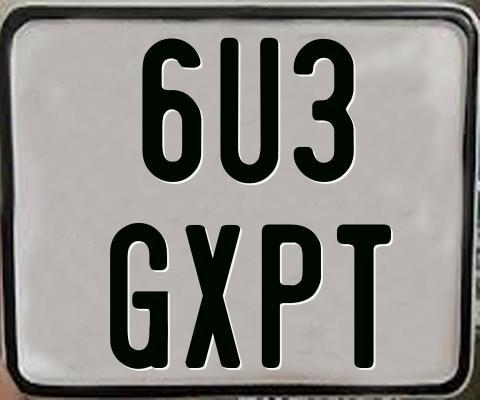3: (291, 38, 352, 184)
6: (140, 37, 201, 182)
G: (107, 221, 171, 368)
P: (262, 223, 321, 369)
T: (334, 223, 389, 367)
U: (217, 38, 278, 187)
X: (183, 222, 240, 370)
